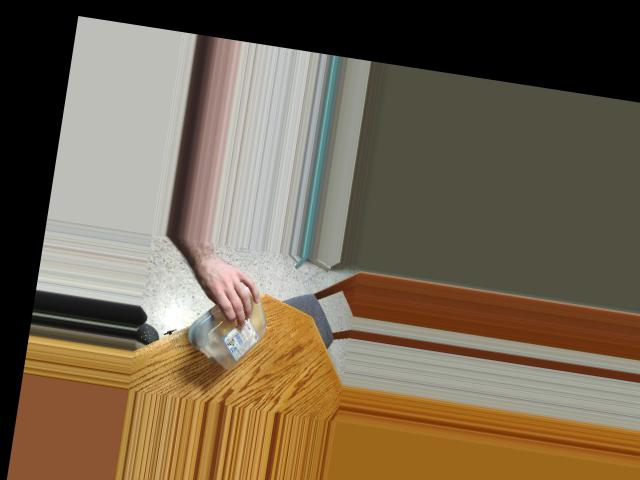cheese: (186, 272, 273, 373)
